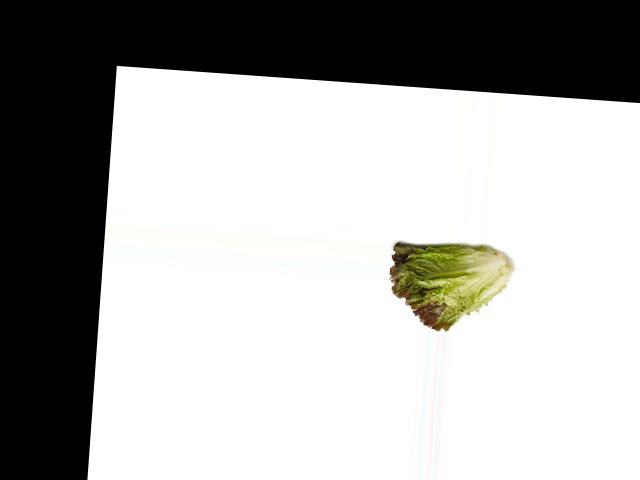lettuce: (383, 240, 513, 334)
